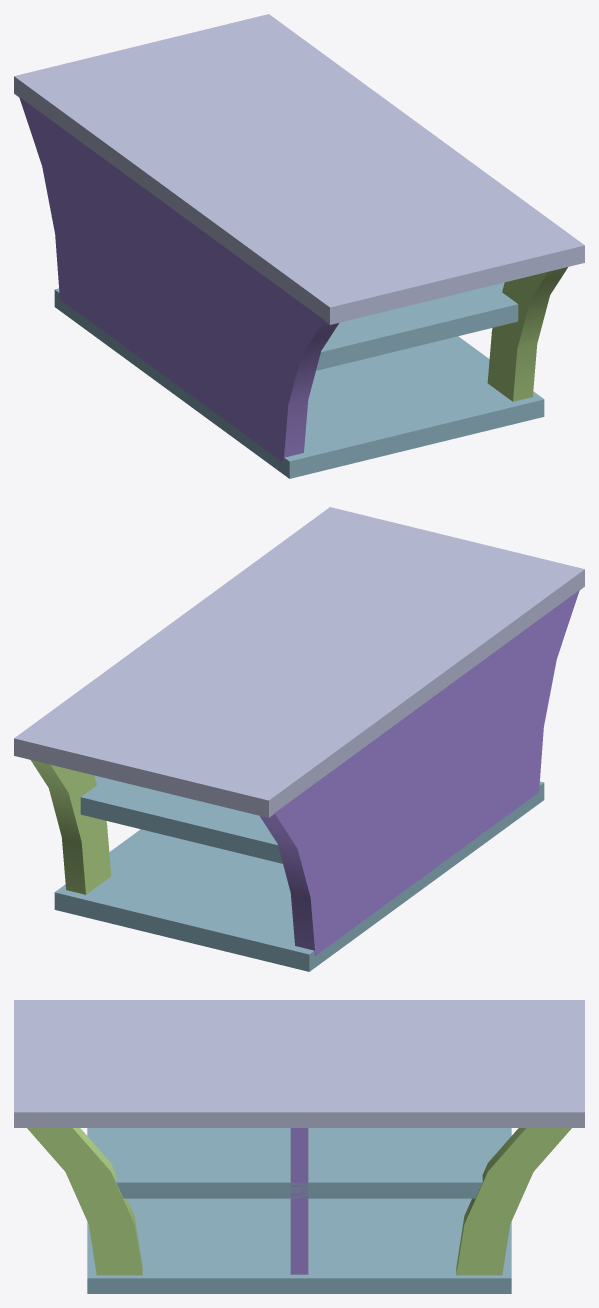
File: Friday_TristanTVstand.fbx
3 renders of one model, top to bottom at view 1: azimuth 30°, elevation 25°; view 2: azimuth 150°, elevation 25°; view 3: azimuth 270°, elevation 25°, orthographic. The views are drawn at different scales.
Visible parts, largest first — view 1: pCube14, pCube17, pCube15, pCube16; view 2: pCube14, pCube17, pCube15, pCube16; view 3: pCube14, pCube15, pCube16, pCube18.
Part boxes in pixels (left/top/right/bottom): pCube14: left=14, top=14, right=584, bottom=324; pCube17: left=19, top=97, right=338, bottom=462; pCube15: left=54, top=282, right=544, bottom=478; pCube16: left=487, top=267, right=567, bottom=401; pCube14: left=14, top=507, right=584, bottom=817; pCube17: left=260, top=590, right=579, bottom=955; pCube15: left=54, top=775, right=544, bottom=971; pCube16: left=31, top=760, right=111, bottom=894; pCube14: left=14, top=1000, right=584, bottom=1127; pCube15: left=87, top=1128, right=511, bottom=1293; pCube16: left=27, top=1128, right=571, bottom=1275; pCube18: left=290, top=1128, right=308, bottom=1274.
Bounding box in the file's own units: 17.7 × 13.33 × 37.98.
